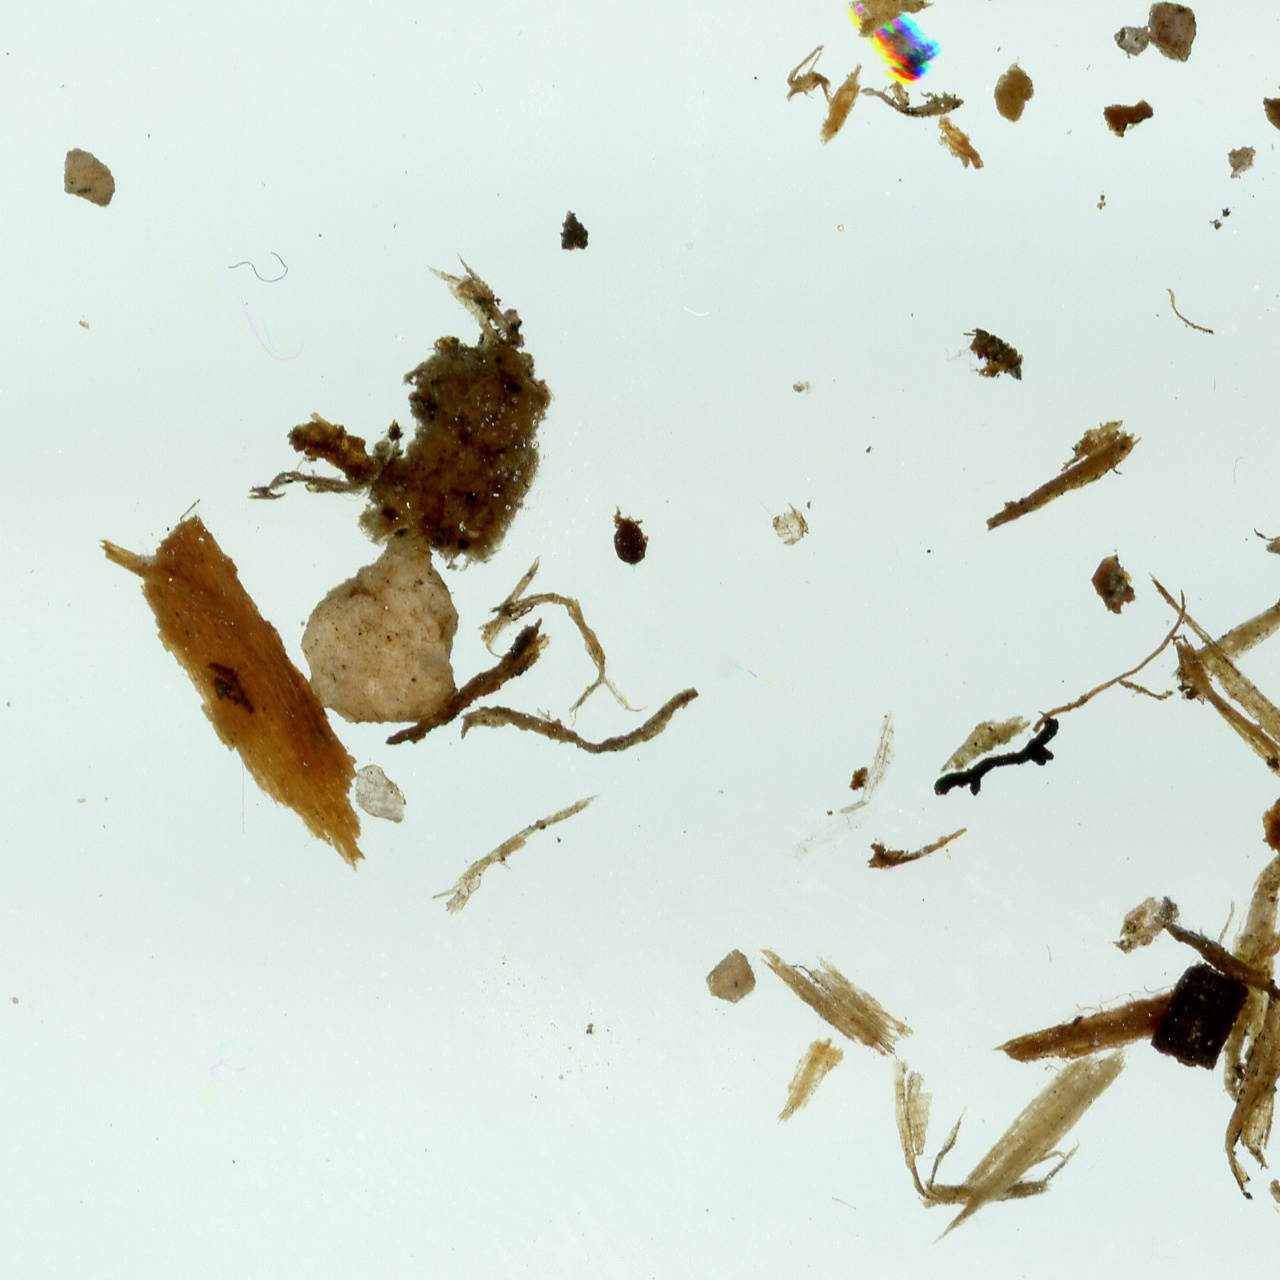arthropod: (612, 503, 651, 566)
